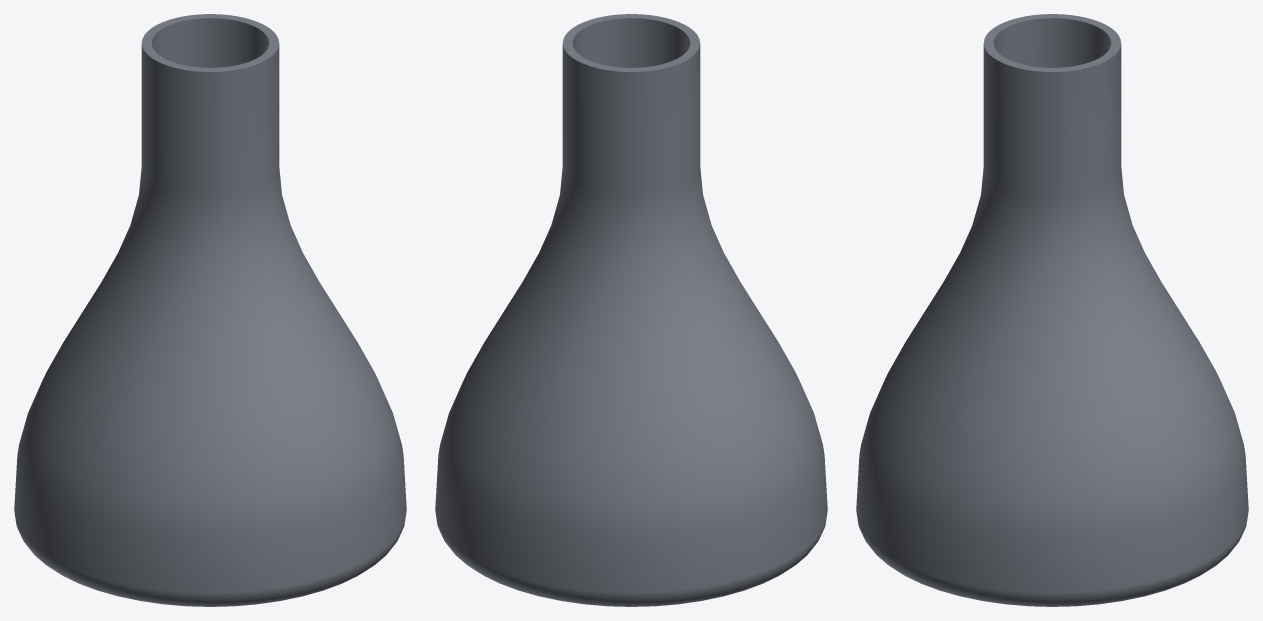
The model's file is jar_flask.obj.
3 views of the same model, side by side, from view 1: azimuth 30°, elevation 25°; view 2: azimuth 150°, elevation 25°; view 3: azimuth 270°, elevation 25° (orthographic).
Parts seen in each view (by area): view 1: jar_flask; view 2: jar_flask; view 3: jar_flask.
Part boxes in pixels (<box>): jar_flask: <box>14,14,406,606</box>; jar_flask: <box>435,14,827,606</box>; jar_flask: <box>856,14,1248,606</box>.
Bounding box in the file's own units: 0.16 × 0.22 × 0.16.
1 material, 1 textured.
